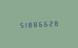eight: (27, 20, 31, 28), (32, 20, 36, 28), (52, 19, 56, 27)
five: (17, 21, 21, 28)
one: (22, 20, 26, 28)
six: (42, 19, 46, 27), (37, 20, 41, 27)
two: (47, 19, 51, 27)
